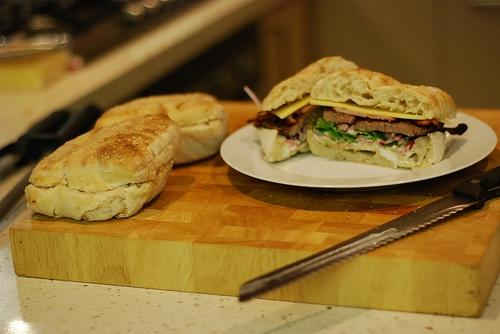lettuce: (354, 130, 388, 142)
